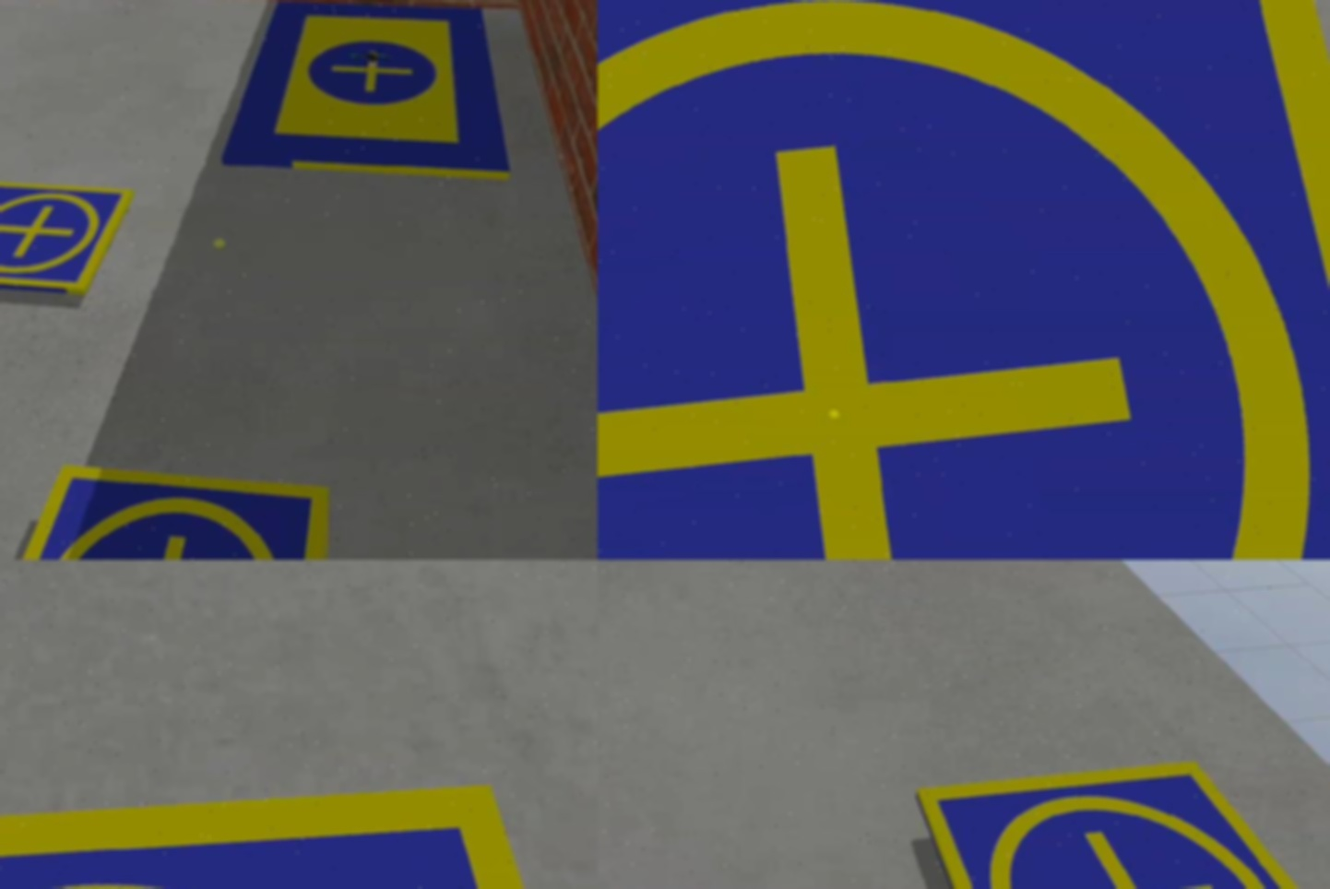large_base: (219, 1, 513, 189)
small_base: (598, 1, 1330, 561), (1, 780, 598, 889), (918, 765, 1330, 889), (1, 468, 334, 561), (1, 172, 134, 302)
